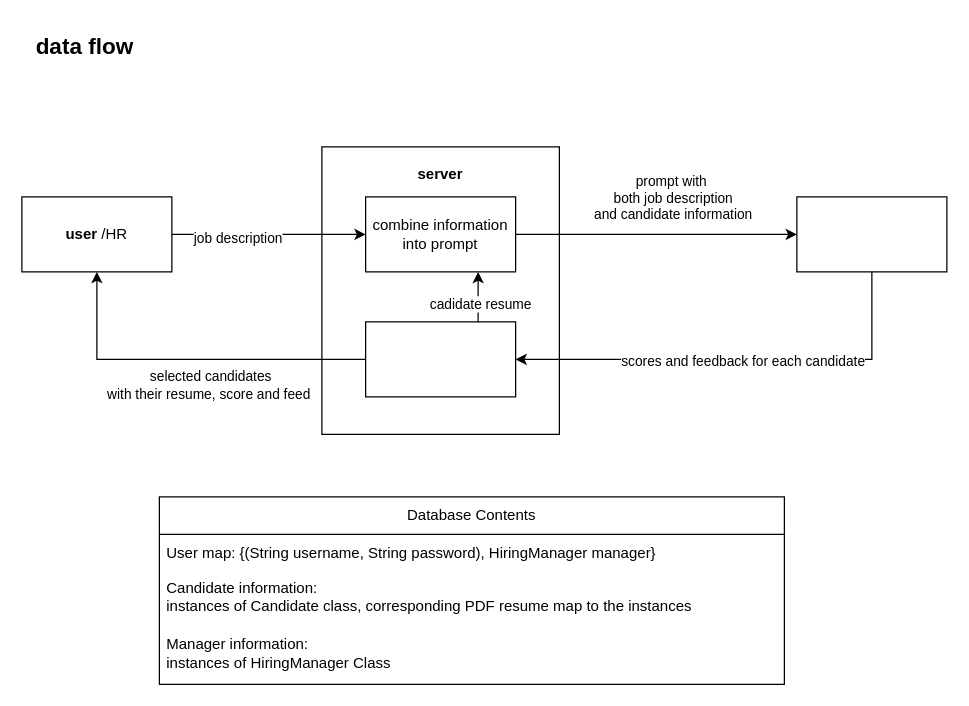
Image size: 969x706. Some labels were removed from this diagram. Here are the shapes that lost their labels. From the top down, the centre of each, then its label:
At pixel 871 234: "openAI API".
At pixel 440 359: "database with candidates information".
